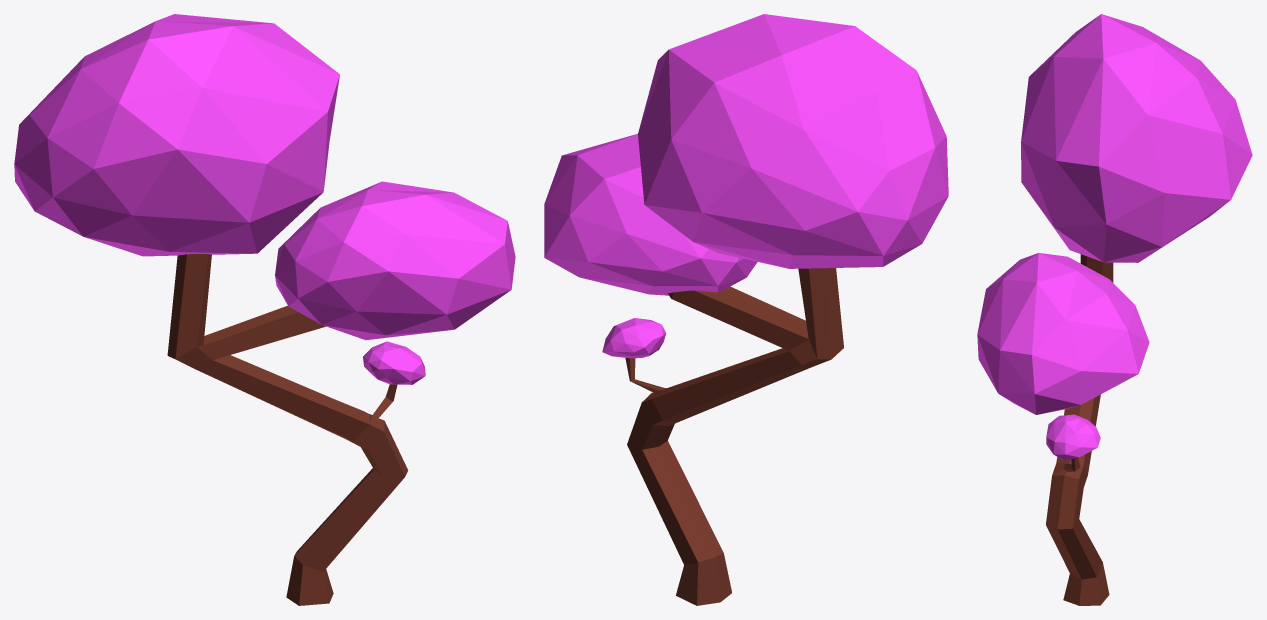
File: Cherry_tree__3.glb
3 renders of one model, left to right at view 1: azimuth 30°, elevation 25°; view 2: azimuth 150°, elevation 25°; view 3: azimuth 270°, elevation 25°, orthographic. The views are drawn at different scales.
Visible parts, largest first — view 1: Cherry tree #3; view 2: Cherry tree #3; view 3: Cherry tree #3.
Boxes of the visible parts, left/top/right/bottom form: Cherry tree #3: left=14, top=14, right=515, bottom=605; Cherry tree #3: left=544, top=14, right=948, bottom=605; Cherry tree #3: left=977, top=14, right=1252, bottom=605.
Bounding box in the file's own units: 3.61 × 4.8 × 2.31.
